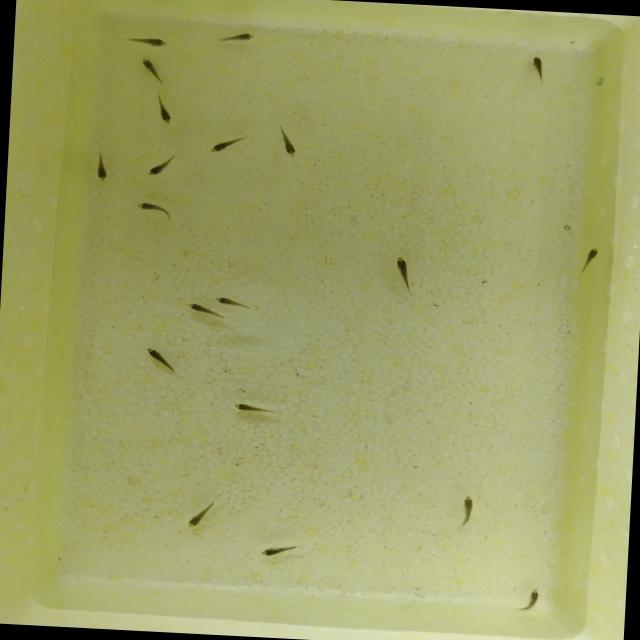fingerling: (256, 538, 298, 566), (126, 195, 175, 219), (138, 344, 180, 371), (576, 240, 612, 268), (392, 252, 418, 290), (456, 492, 484, 527), (182, 502, 212, 534), (137, 32, 176, 55), (527, 52, 550, 90), (225, 398, 268, 418), (206, 132, 236, 160), (183, 301, 226, 320), (226, 27, 259, 47), (143, 159, 174, 180), (523, 583, 544, 613), (279, 134, 301, 162), (140, 54, 162, 80), (156, 101, 177, 128), (219, 292, 243, 314), (94, 162, 112, 186)
